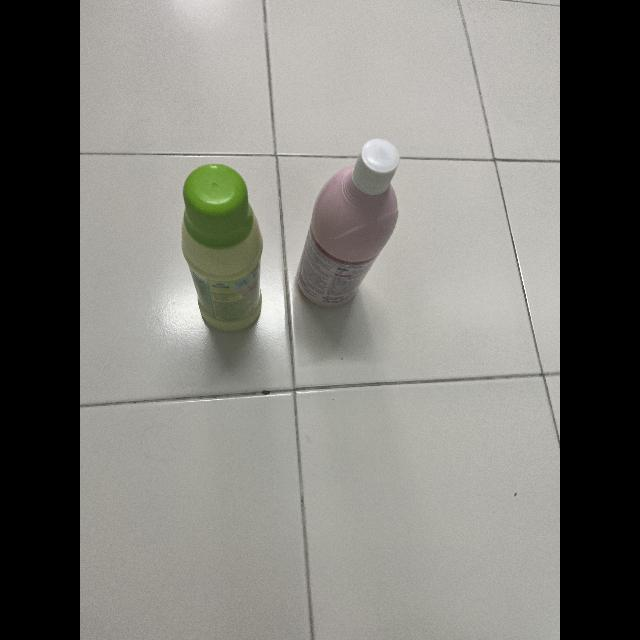chemical_plastic_bottle: (296, 136, 406, 314), (176, 157, 272, 339)
